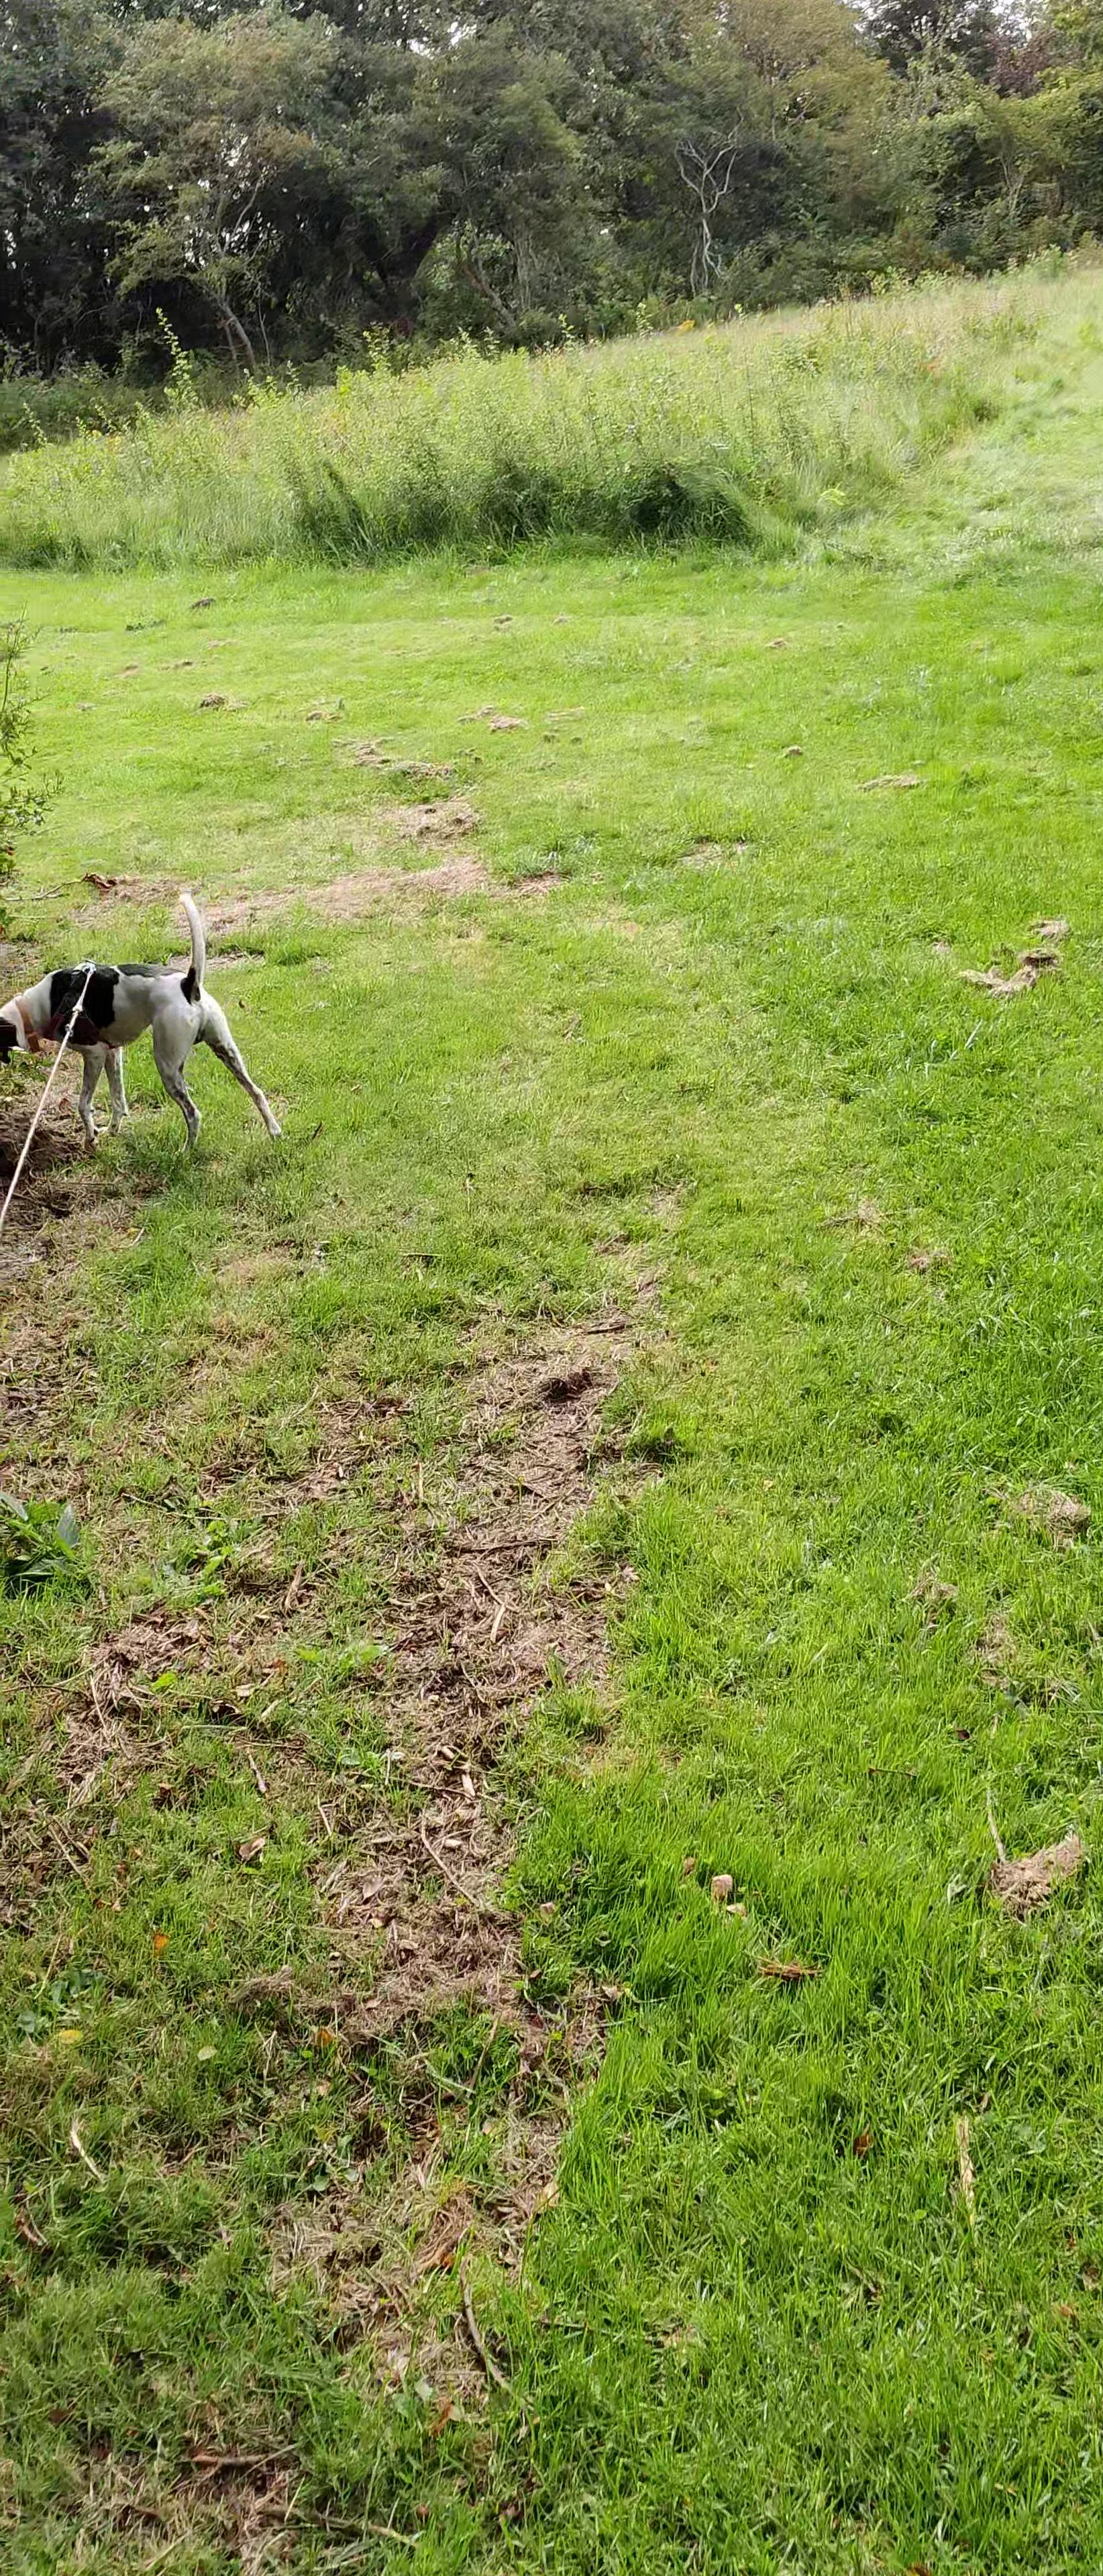Dog: (0, 881, 299, 1161)
